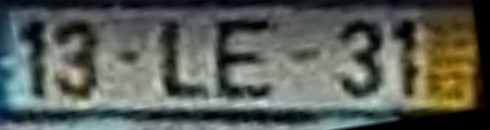1: (15, 18, 50, 103), (389, 16, 421, 103)
3: (49, 15, 107, 105), (333, 15, 387, 104)
E: (213, 19, 274, 102)
L: (161, 18, 213, 103)
